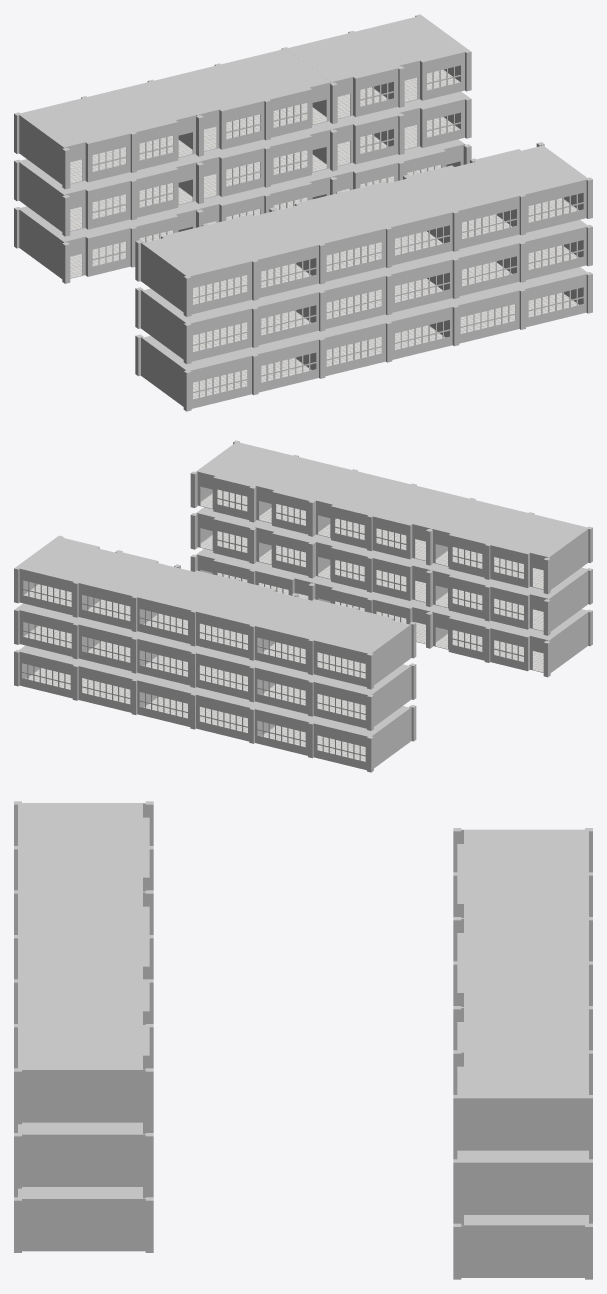
File: Lab-transformed.glb
3 views of the same model, one above another, from view 1: azimuth 30°, elevation 25°; view 2: azimuth 150°, elevation 25°; view 3: azimuth 270°, elevation 25° (orthographic). The views are drawn at different scales.
Visible parts, largest first — view 1: lab-lt1-left; view 2: lab-lt1-left; view 3: lab-lt1-left.
Boxes of the visible parts, bbox=[...] form: lab-lt1-left: bbox=[14, 14, 592, 411]; lab-lt1-left: bbox=[14, 440, 592, 772]; lab-lt1-left: bbox=[14, 801, 592, 1279].
Size of the model in its own units: 16.01 by 4.56 by 13.2.
Materials: 2 (1 with a texture image).
